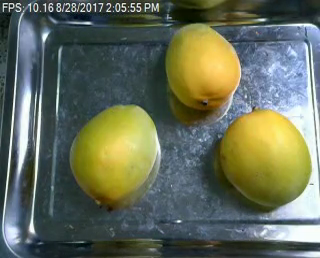Mango: (218, 108, 314, 207), (65, 104, 158, 205), (165, 18, 242, 111)
